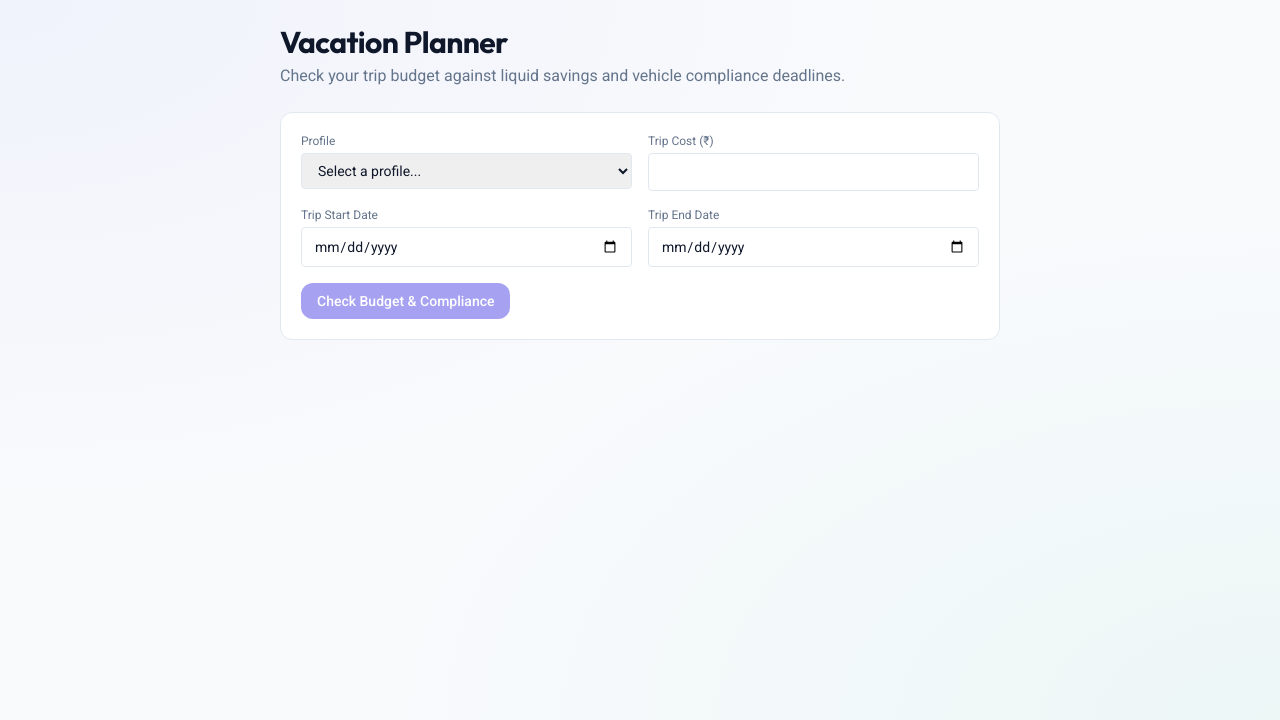
Test: VacationPlanner page › shows vehicle compliance issues when present
Select "Alice" in the dropdown labelled "Profile": (466, 171) x1=301 y1=153 x2=632 y2=189
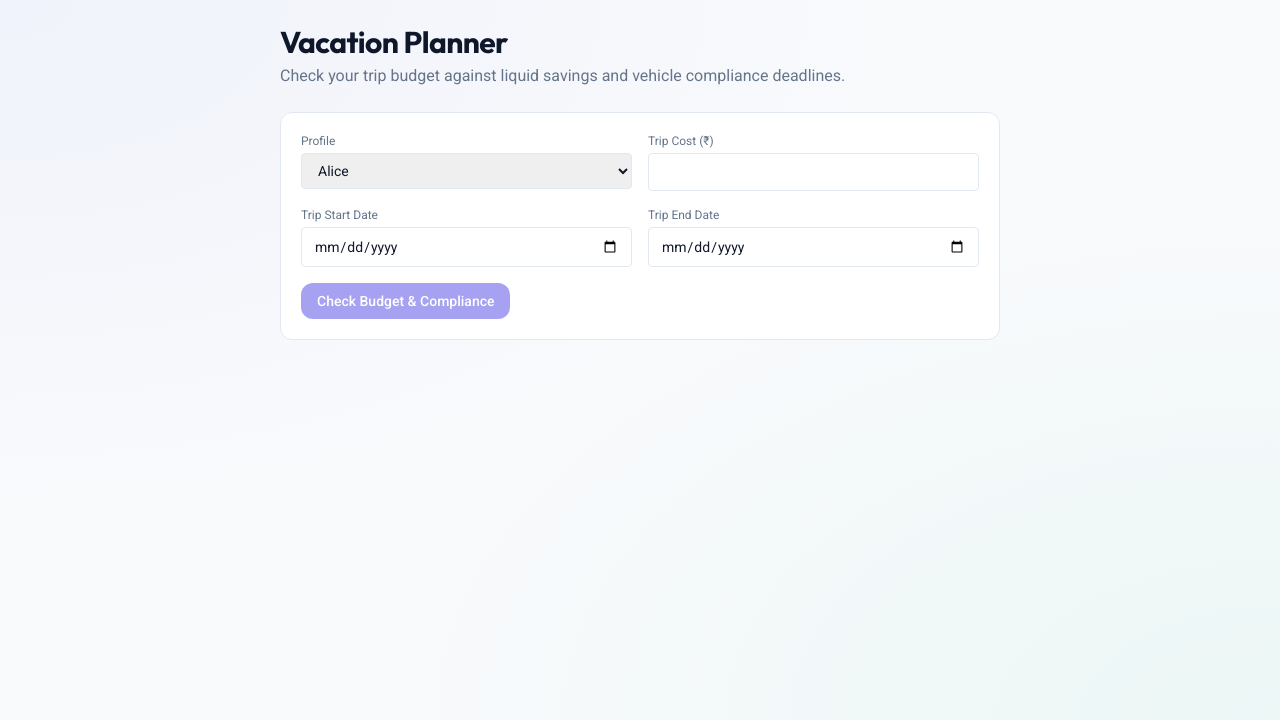
In the number field labelled "Trip Cost (₹)": (814, 172) x1=648 y1=153 x2=979 y2=191, type "50000"
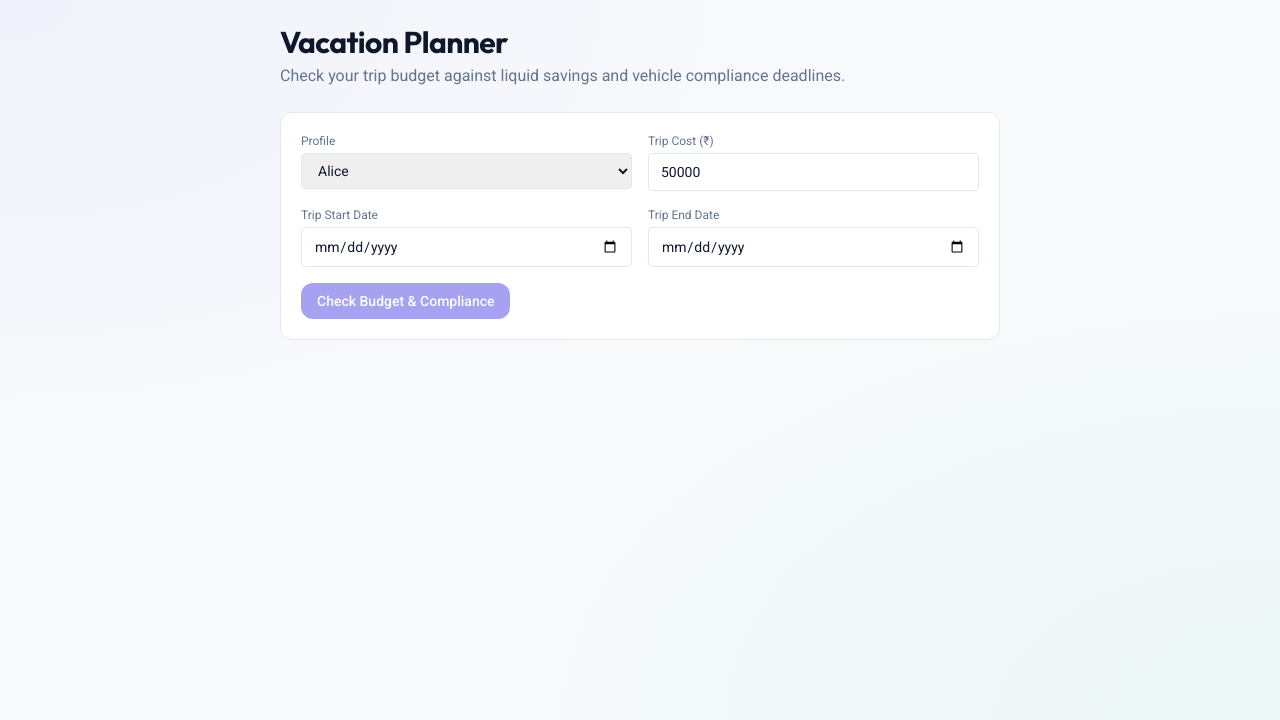
In the date field labelled "Trip End Date": (814, 247) x1=648 y1=227 x2=979 y2=267, type "2026-08-10"
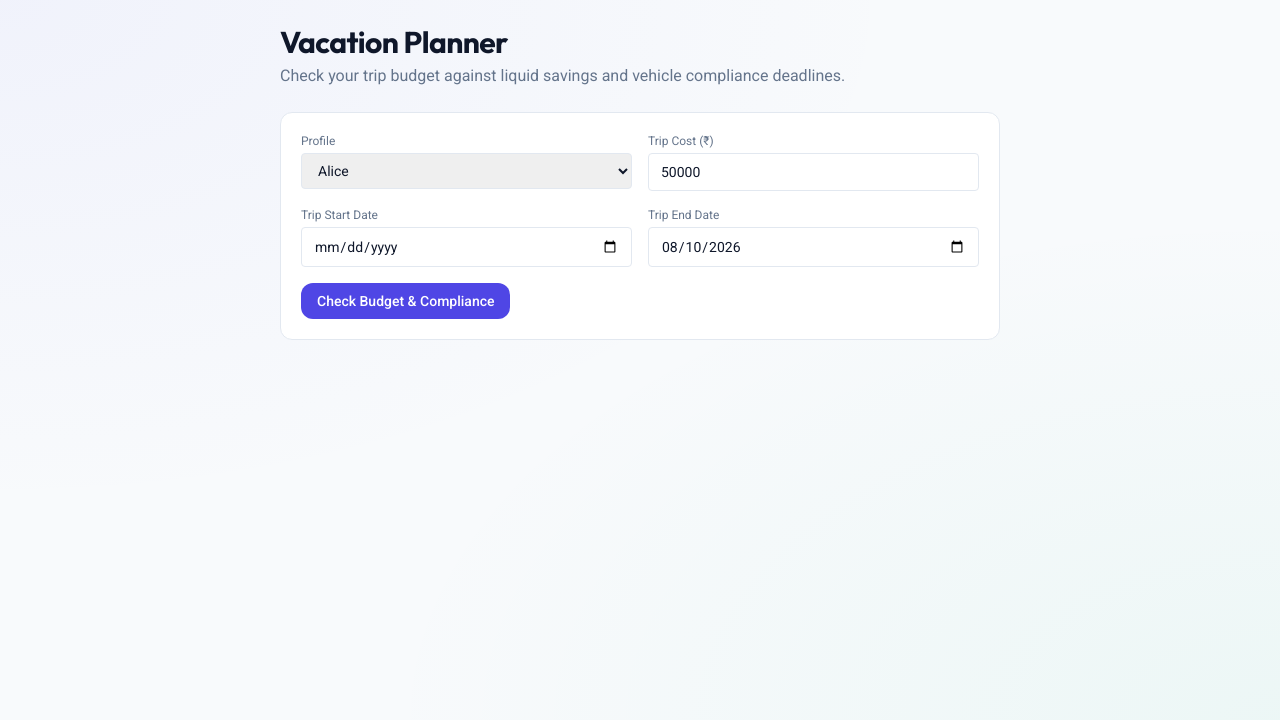
Click the button "Check Budget & Compliance": (406, 301) x1=301 y1=283 x2=510 y2=319
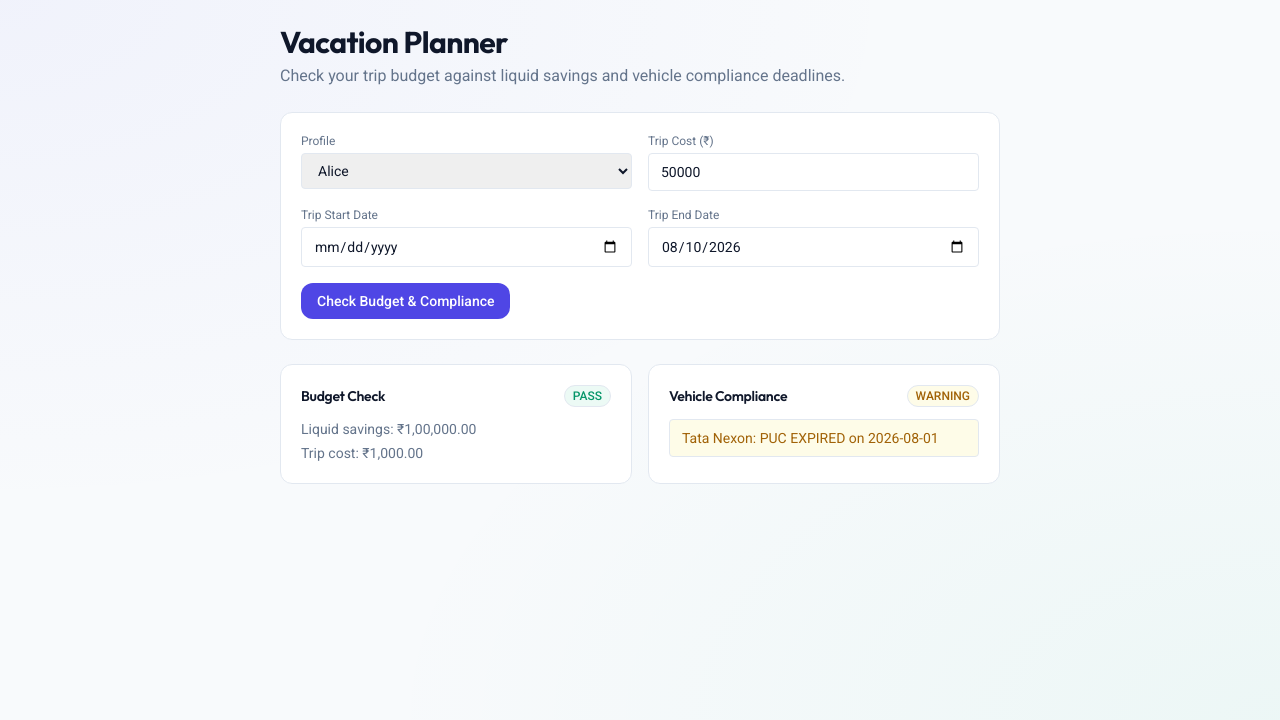
Expected: the list item "Tata Nexon: PUC EXPIRED on 2026-08-01" is shown, x1=669 y1=419 x2=979 y2=457
